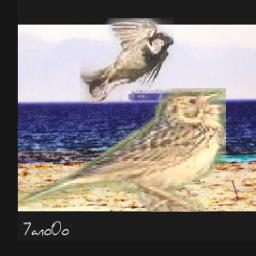Sparrow: (18, 89, 226, 213), (80, 19, 173, 105)
